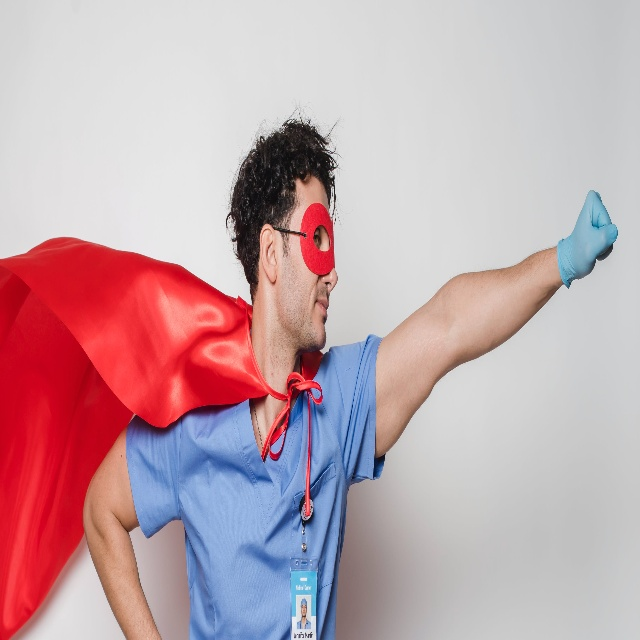Guantes: (557, 190, 618, 289)
